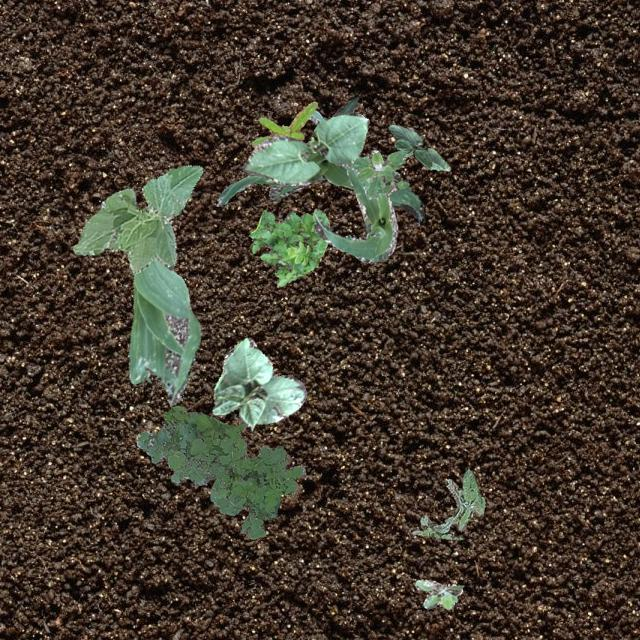crop: (215, 96, 424, 220), (72, 165, 202, 272), (308, 110, 397, 260), (126, 256, 200, 406), (240, 112, 368, 184), (212, 336, 306, 429), (388, 124, 450, 170)
weed: (136, 404, 304, 538), (248, 208, 328, 286), (410, 468, 484, 538), (346, 148, 412, 198), (250, 100, 316, 146), (414, 578, 462, 608), (106, 240, 118, 248)
